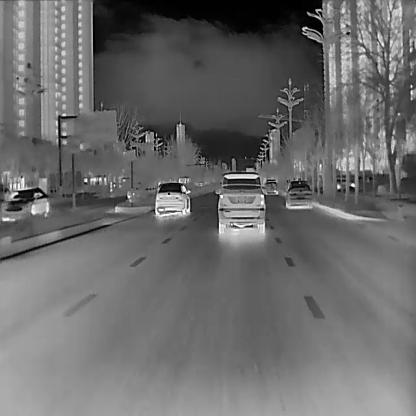car: (214, 172, 264, 233), (0, 187, 50, 221), (153, 181, 192, 215), (284, 180, 312, 208), (263, 178, 278, 195)
